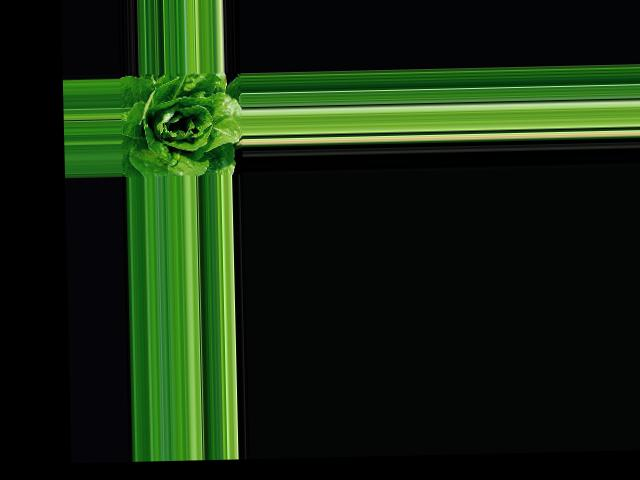lettuce: (121, 71, 237, 174)
